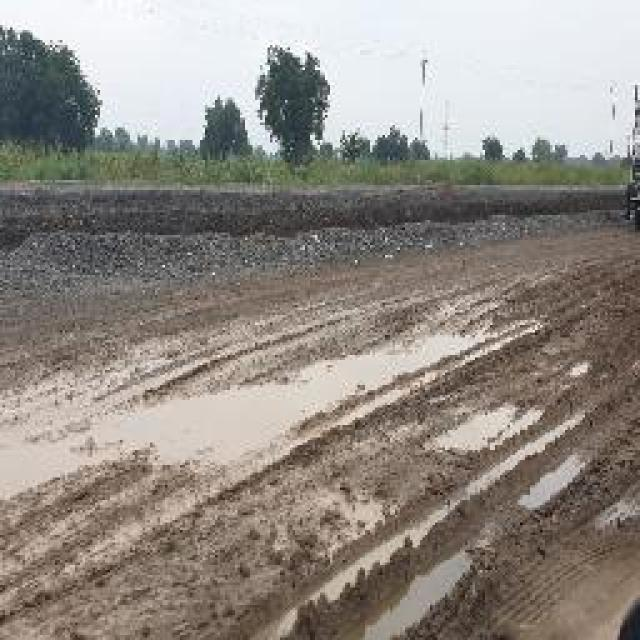waterlogging: (102, 383, 318, 472), (0, 372, 89, 530), (416, 391, 554, 468), (500, 453, 597, 526)
